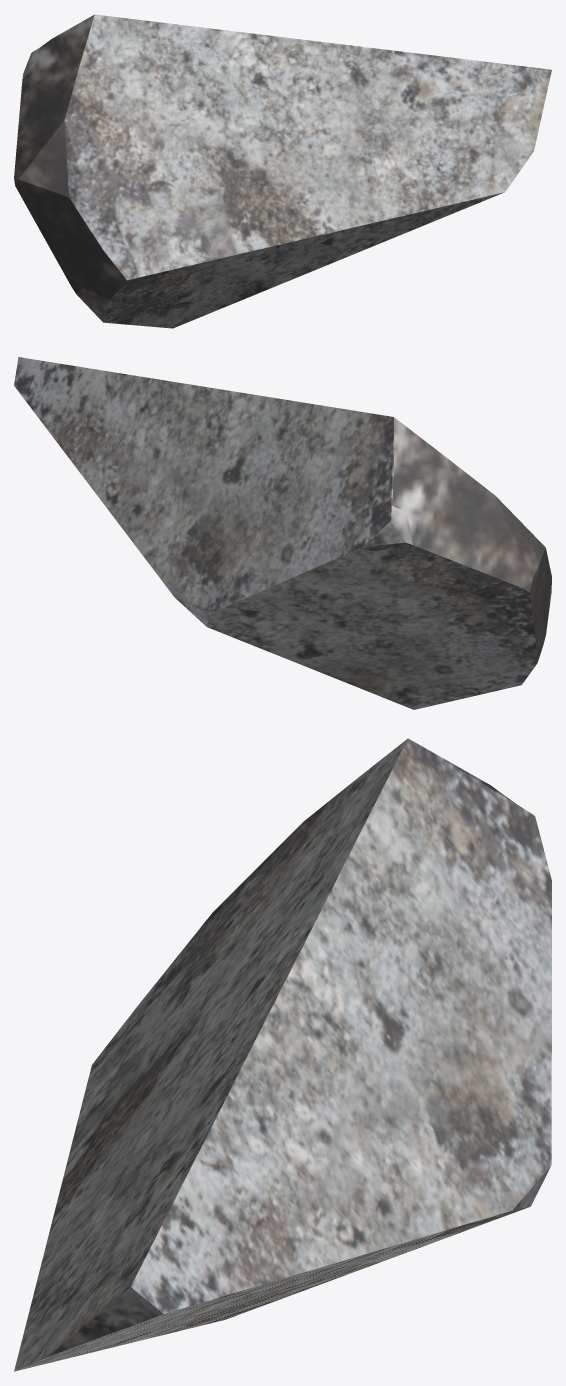
File: Asteroid_Medium_001_02_002_03_003.fbx
3 views of the same model, one above another, from view 1: azimuth 30°, elevation 25°; view 2: azimuth 150°, elevation 25°; view 3: azimuth 270°, elevation 25° (orthographic). The views are drawn at different scales.
Parts seen in each view (by area): view 1: Asteroid_Medium_001_02_002_03_003; view 2: Asteroid_Medium_001_02_002_03_003; view 3: Asteroid_Medium_001_02_002_03_003.
Part boxes in pixels (x1,y1,x2,y2): Asteroid_Medium_001_02_002_03_003: (14,14,551,328); Asteroid_Medium_001_02_002_03_003: (14,357,551,709); Asteroid_Medium_001_02_002_03_003: (14,738,551,1371).
Size of the model in its own units: 15.33 by 8.72 by 7.69.
